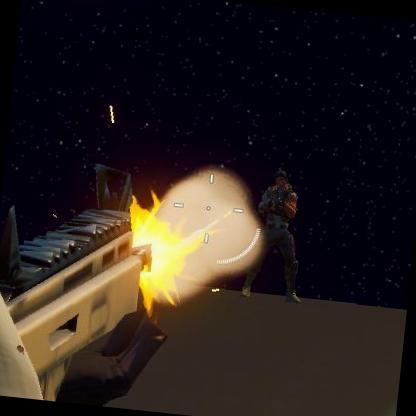person: (249, 167, 306, 297), (247, 228, 296, 298)
